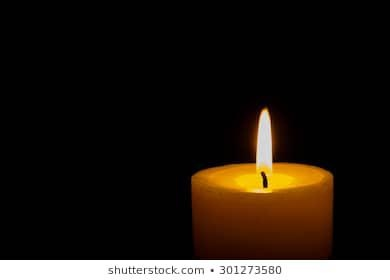fire: (253, 103, 273, 174)
